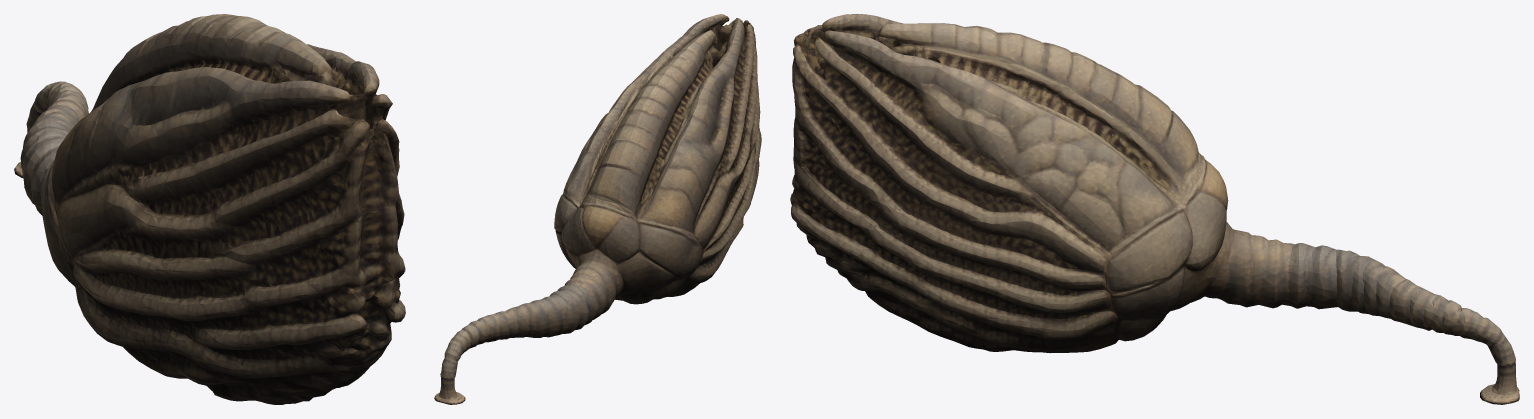
3 renders of one model, left to right at view 1: azimuth 30°, elevation 25°; view 2: azimuth 150°, elevation 25°; view 3: azimuth 270°, elevation 25°, orthographic. The views are drawn at different scales.
Parts seen in each view (by area): view 1: world; view 2: world; view 3: world.
Part boxes in pixels (<box>): world: <box>14,14,405,404</box>; world: <box>434,14,761,404</box>; world: <box>790,14,1519,404</box>.
Bounding box in the file's own units: 0.3391 × 0.5077 × 1.
Materials: 1 (1 with a texture image).
